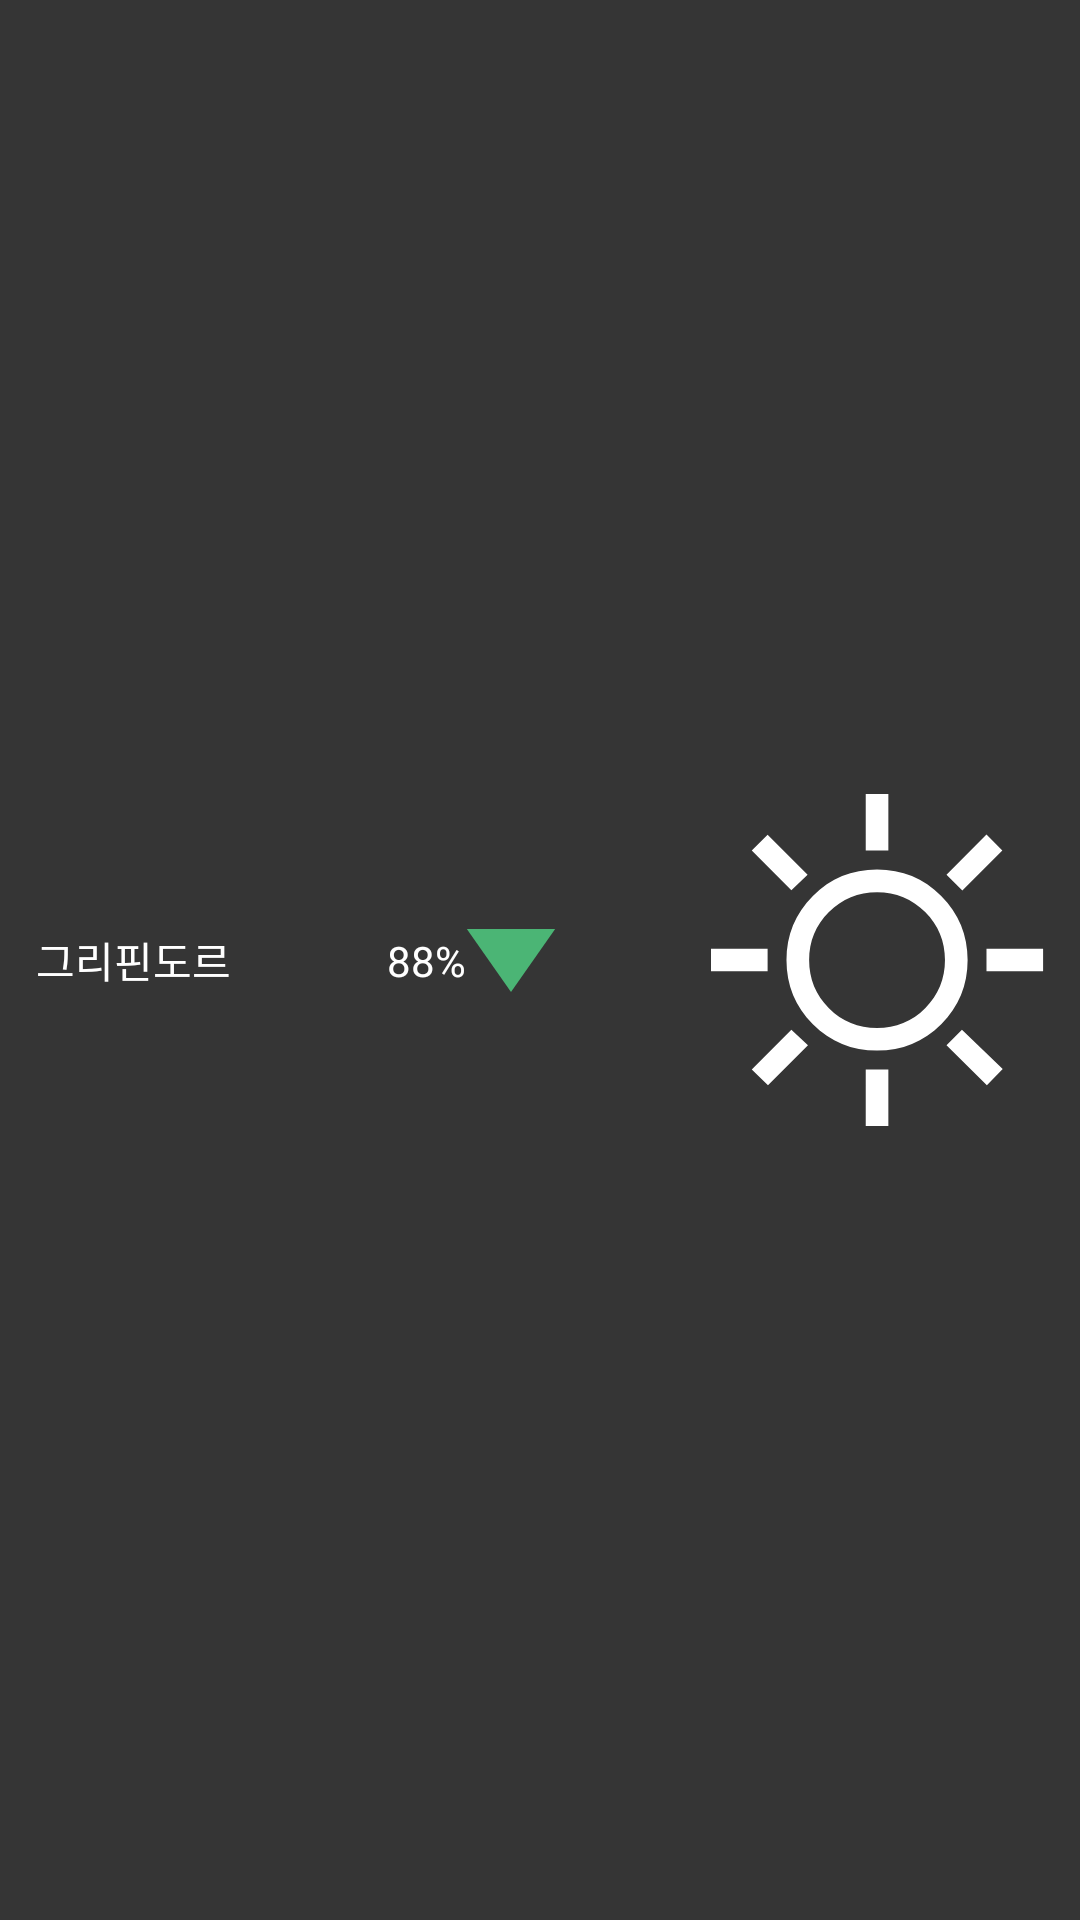

Where to tap for icons on this 1080*1920 app screen, as (x,y):
weather sunny: (877,960)
